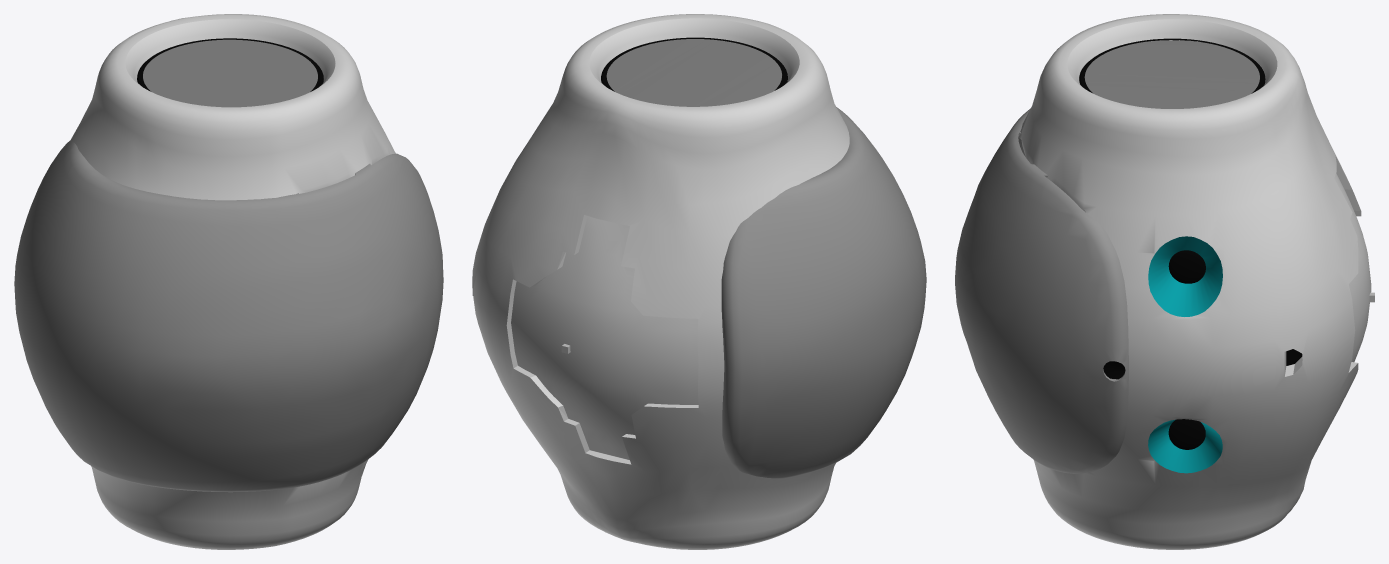
The model's file is HeadPitch.dae.
3 views of the same model, side by side, from view 1: azimuth 30°, elevation 25°; view 2: azimuth 150°, elevation 25°; view 3: azimuth 270°, elevation 25° (orthographic).
Visible parts, largest first — view 1: Head; view 2: Head; view 3: Head.
Part boxes in pixels (x1=…): Head: x1=14, y1=14, x2=443, y2=549; Head: x1=472, y1=14, x2=926, y2=549; Head: x1=955, y1=14, x2=1371, y2=549.
Size of the model in its own units: 120 by 115 by 133.
